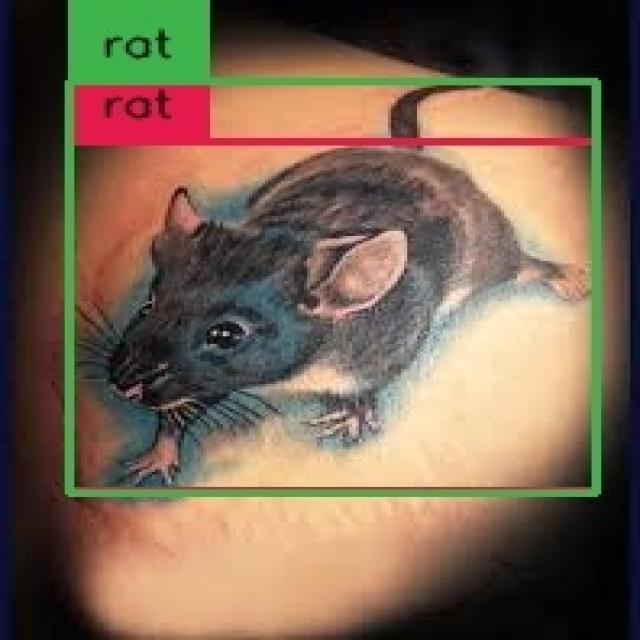rat: (69, 80, 596, 492), (71, 142, 595, 490)
